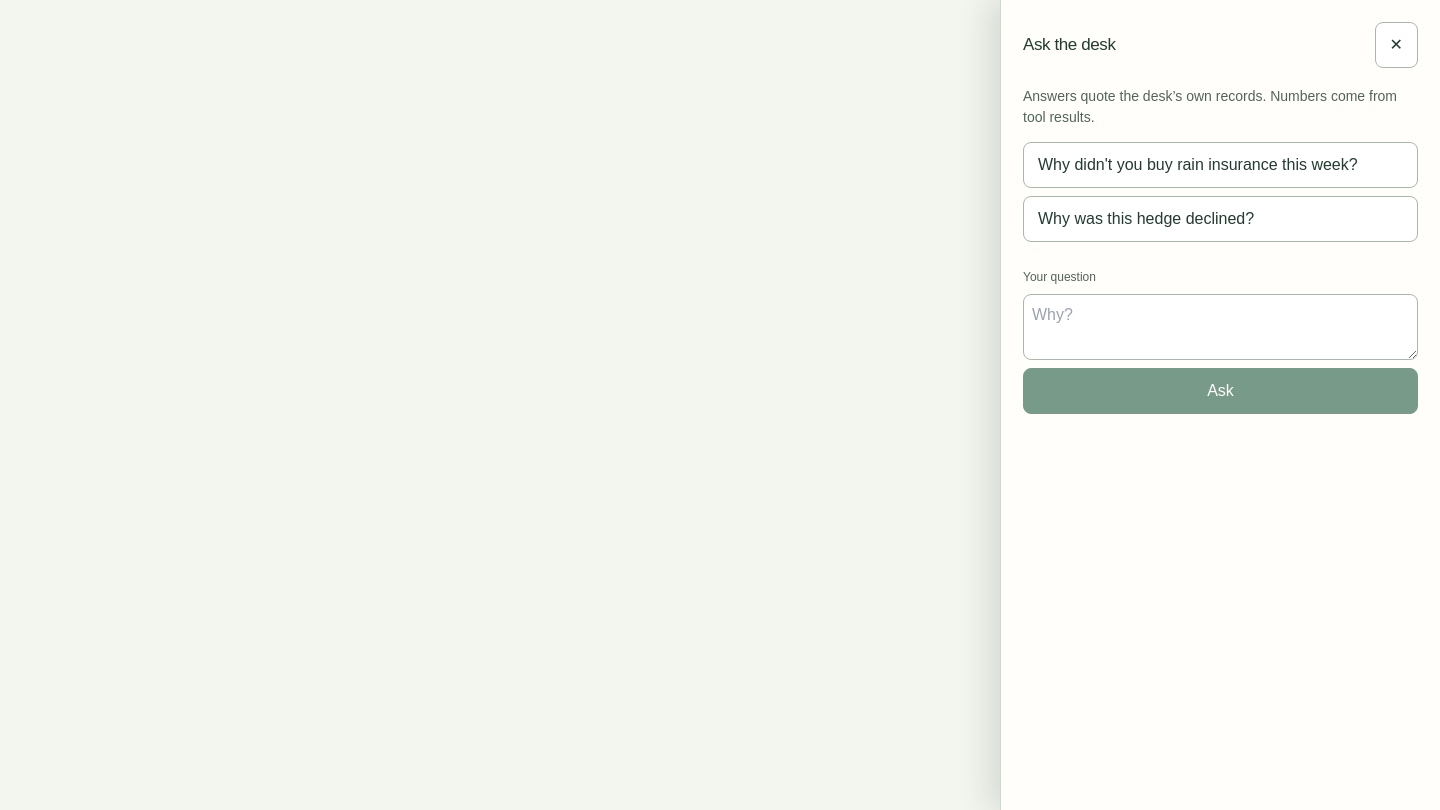
Scenario: C7-A29 chat drawer › keeps the typed question when the request fails
The image size is (1440, 810).
Type "Why was rain declined?" into the text box labelled "Your question".
click(1220, 327); type("Why was rain declined?")  # box [1023,294,1418,360]
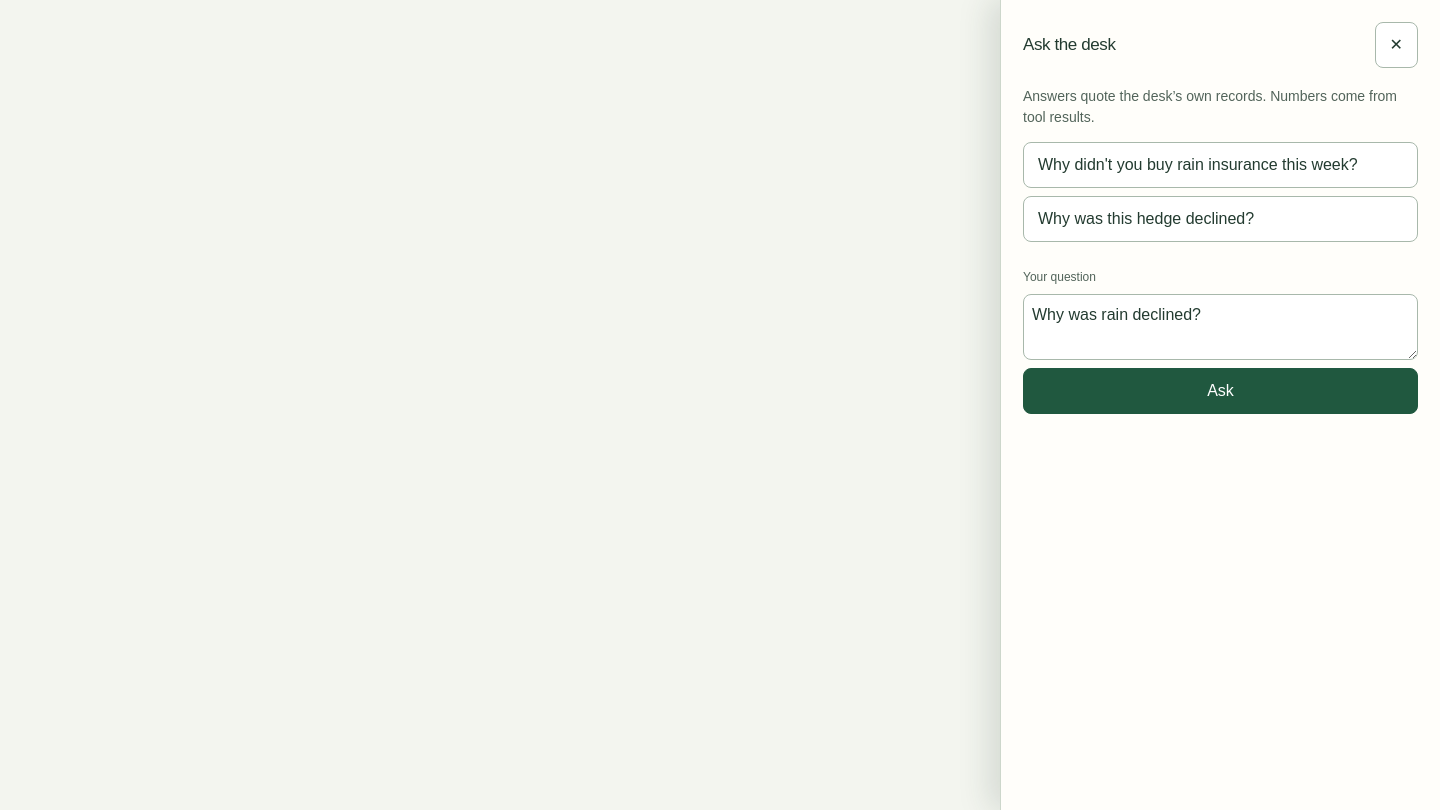
Click the button "Ask".
click(1220, 391)  # box [1023,368,1418,414]
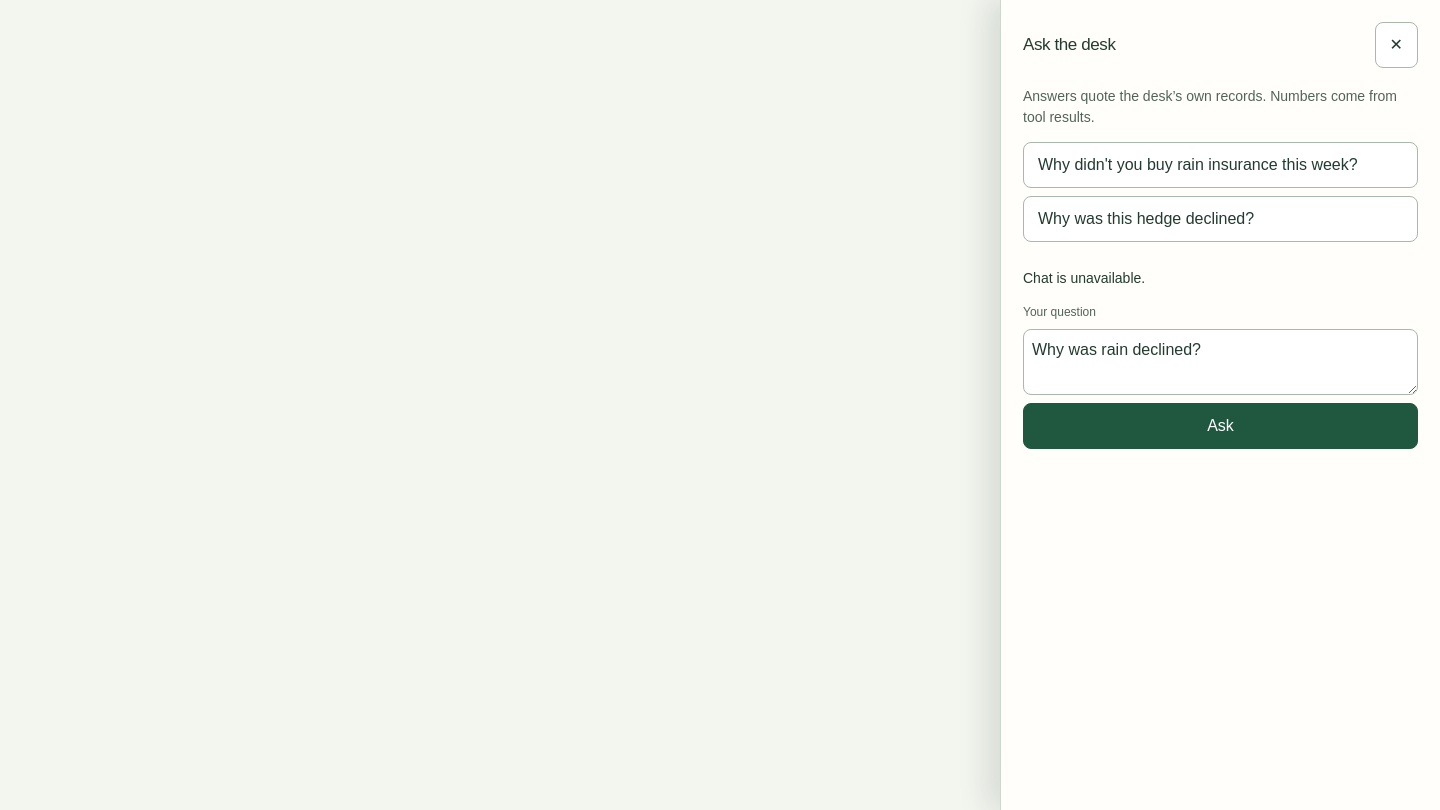
Check: the message reads "Chat is unavailable.", box [1023,270,1145,286]
